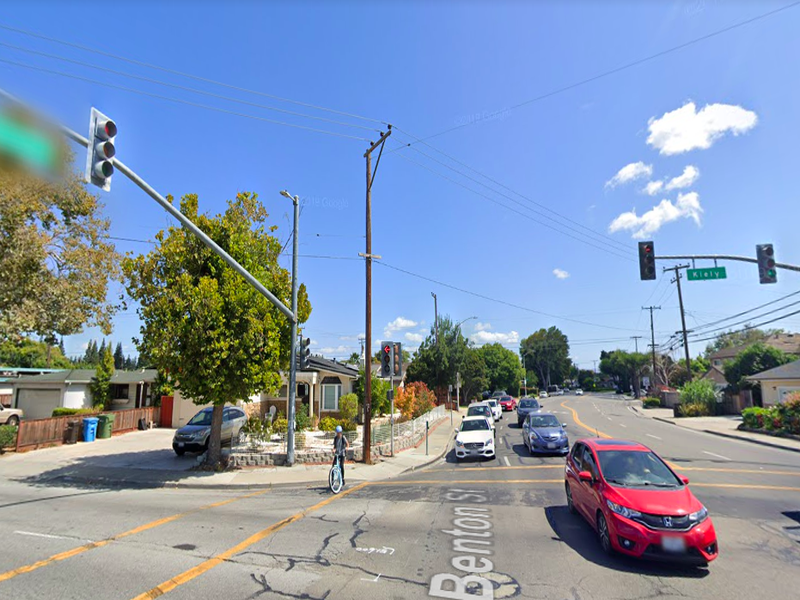tree: (121, 189, 312, 466)
utility_pole: (352, 116, 399, 193)
